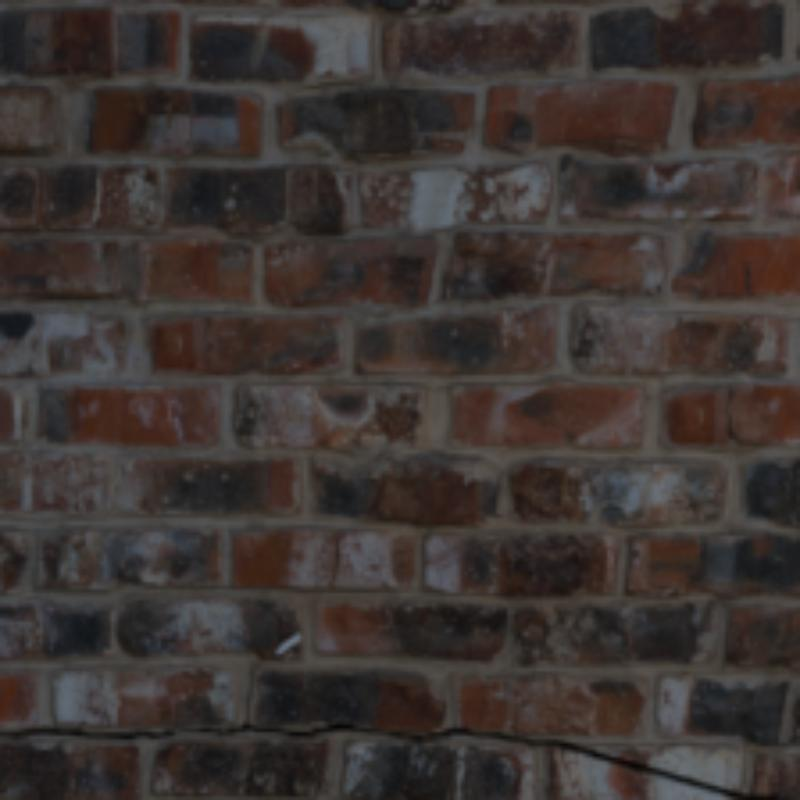pothole: (493, 734, 743, 796), (339, 725, 432, 739), (725, 389, 743, 446), (329, 532, 343, 586), (201, 725, 305, 732), (0, 732, 167, 736), (308, 725, 339, 732), (446, 729, 485, 732), (167, 729, 201, 732)
